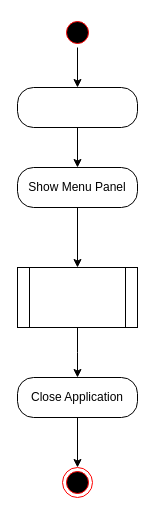
Some shapes in this 155 by 515 pixel diagram are drawn without their labels. The box of each missing label's shape, as (x1, y1, x2, y2) in pixels:
"Exit" button was clicked: (16, 266, 138, 328)
Open Main Menu Scene: (16, 86, 138, 128)
